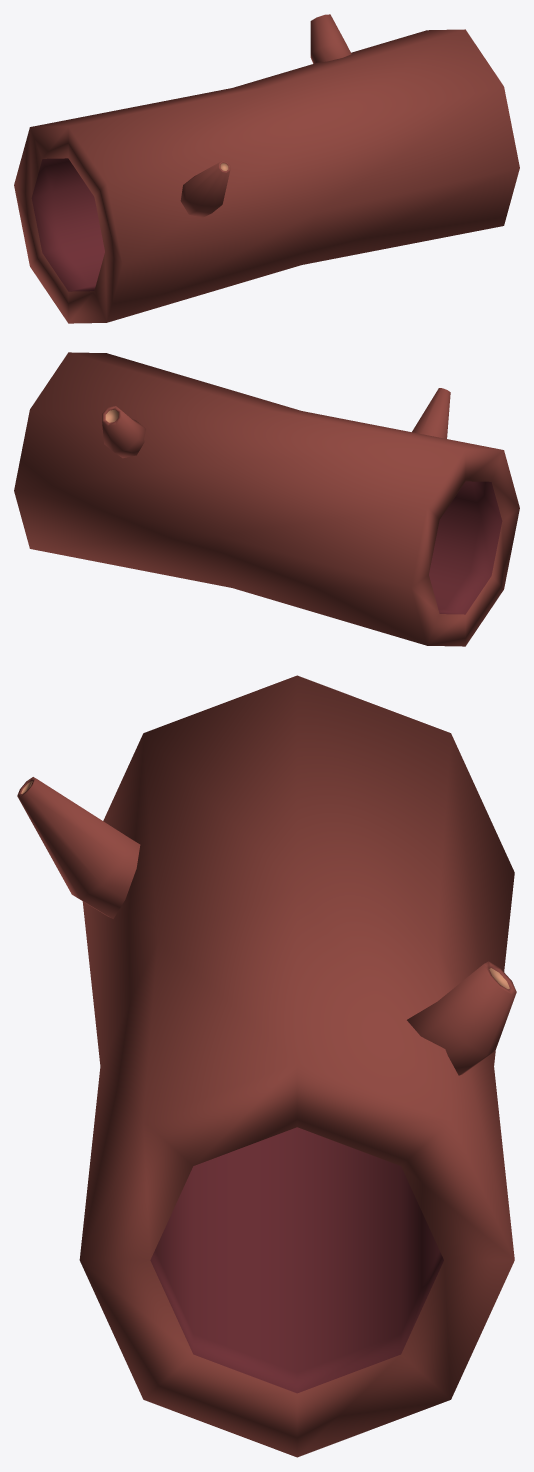
Rendered from Treestump.fbx.
3 renders of one model, top to bottom at view 1: azimuth 30°, elevation 25°; view 2: azimuth 150°, elevation 25°; view 3: azimuth 270°, elevation 25°, orthographic. The views are drawn at different scales.
Parts seen in each view (by area): view 1: Treestump; view 2: Treestump; view 3: Treestump.
Boxes of the visible parts, x1=… form: Treestump: x1=14, y1=14, x2=519, y2=323; Treestump: x1=14, y1=352, x2=519, y2=646; Treestump: x1=17, y1=675, x2=516, y2=1457.
Bounding box in the file's own units: 260 × 125 × 142.
